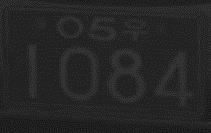0: (58, 44, 99, 103), (56, 13, 84, 40)
1: (17, 42, 49, 103)
4: (154, 50, 195, 109)
5: (88, 15, 115, 43)
8: (106, 46, 146, 104)
우: (120, 15, 149, 42)
